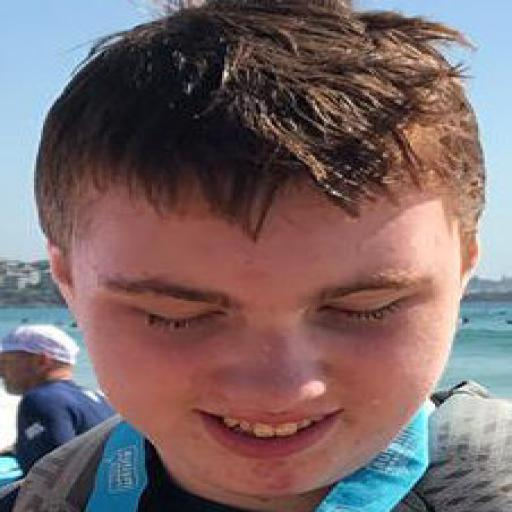Autism: (25, 11, 512, 509)
